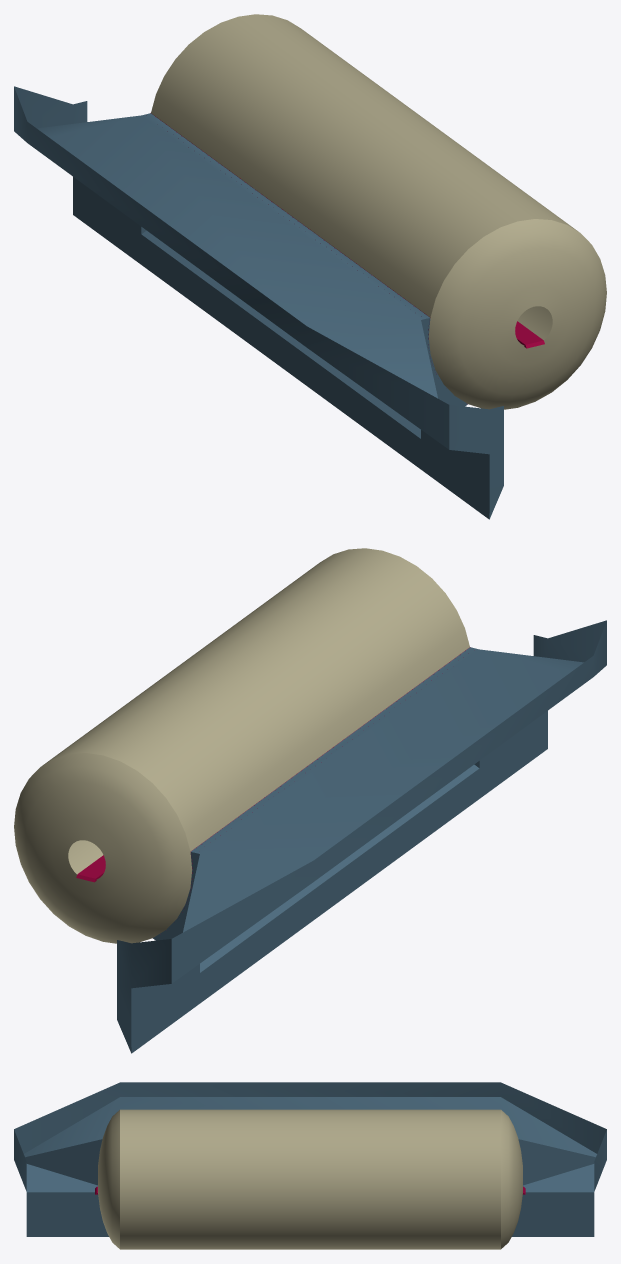
The model's file is TubeHab.glb.
3 views of the same model, one above another, from view 1: azimuth 30°, elevation 25°; view 2: azimuth 150°, elevation 25°; view 3: azimuth 270°, elevation 25° (orthographic). The views are drawn at different scales.
Parts seen in each view (by area): view 1: TubeHab-LOD0; view 2: TubeHab-LOD0; view 3: TubeHab-LOD0.
Part boxes in pixels (<box>): TubeHab-LOD0: <box>14,14,606,519</box>; TubeHab-LOD0: <box>14,548,606,1053</box>; TubeHab-LOD0: <box>14,1082,606,1249</box>.
Size of what is drawn, in the model's own units: 44.1 by 31.56 by 111.
